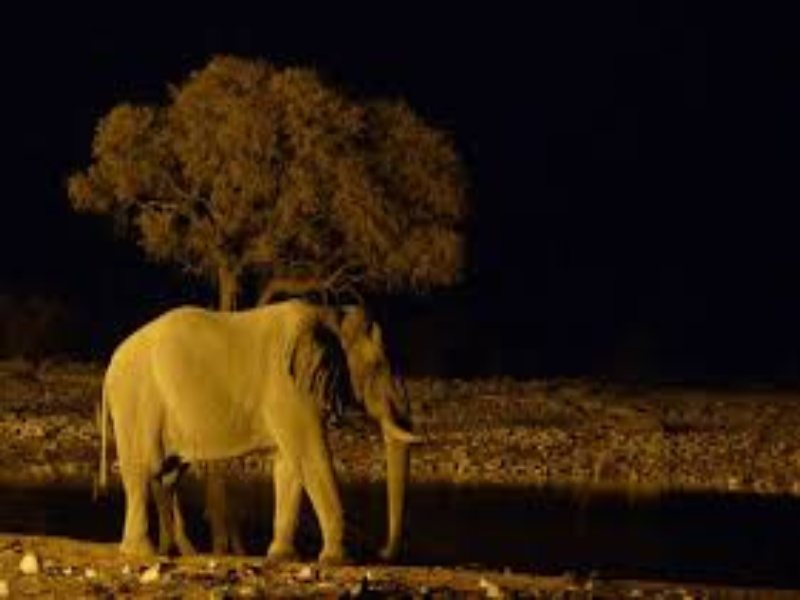elephant: (70, 232, 474, 570)
